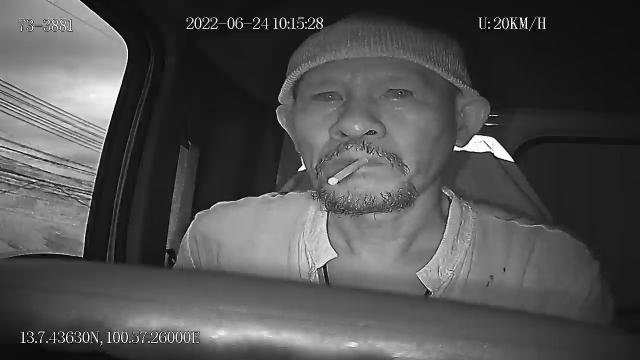SafeDriving: (373, 74, 422, 108), (302, 78, 352, 110)
Smoking: (329, 156, 371, 184)
